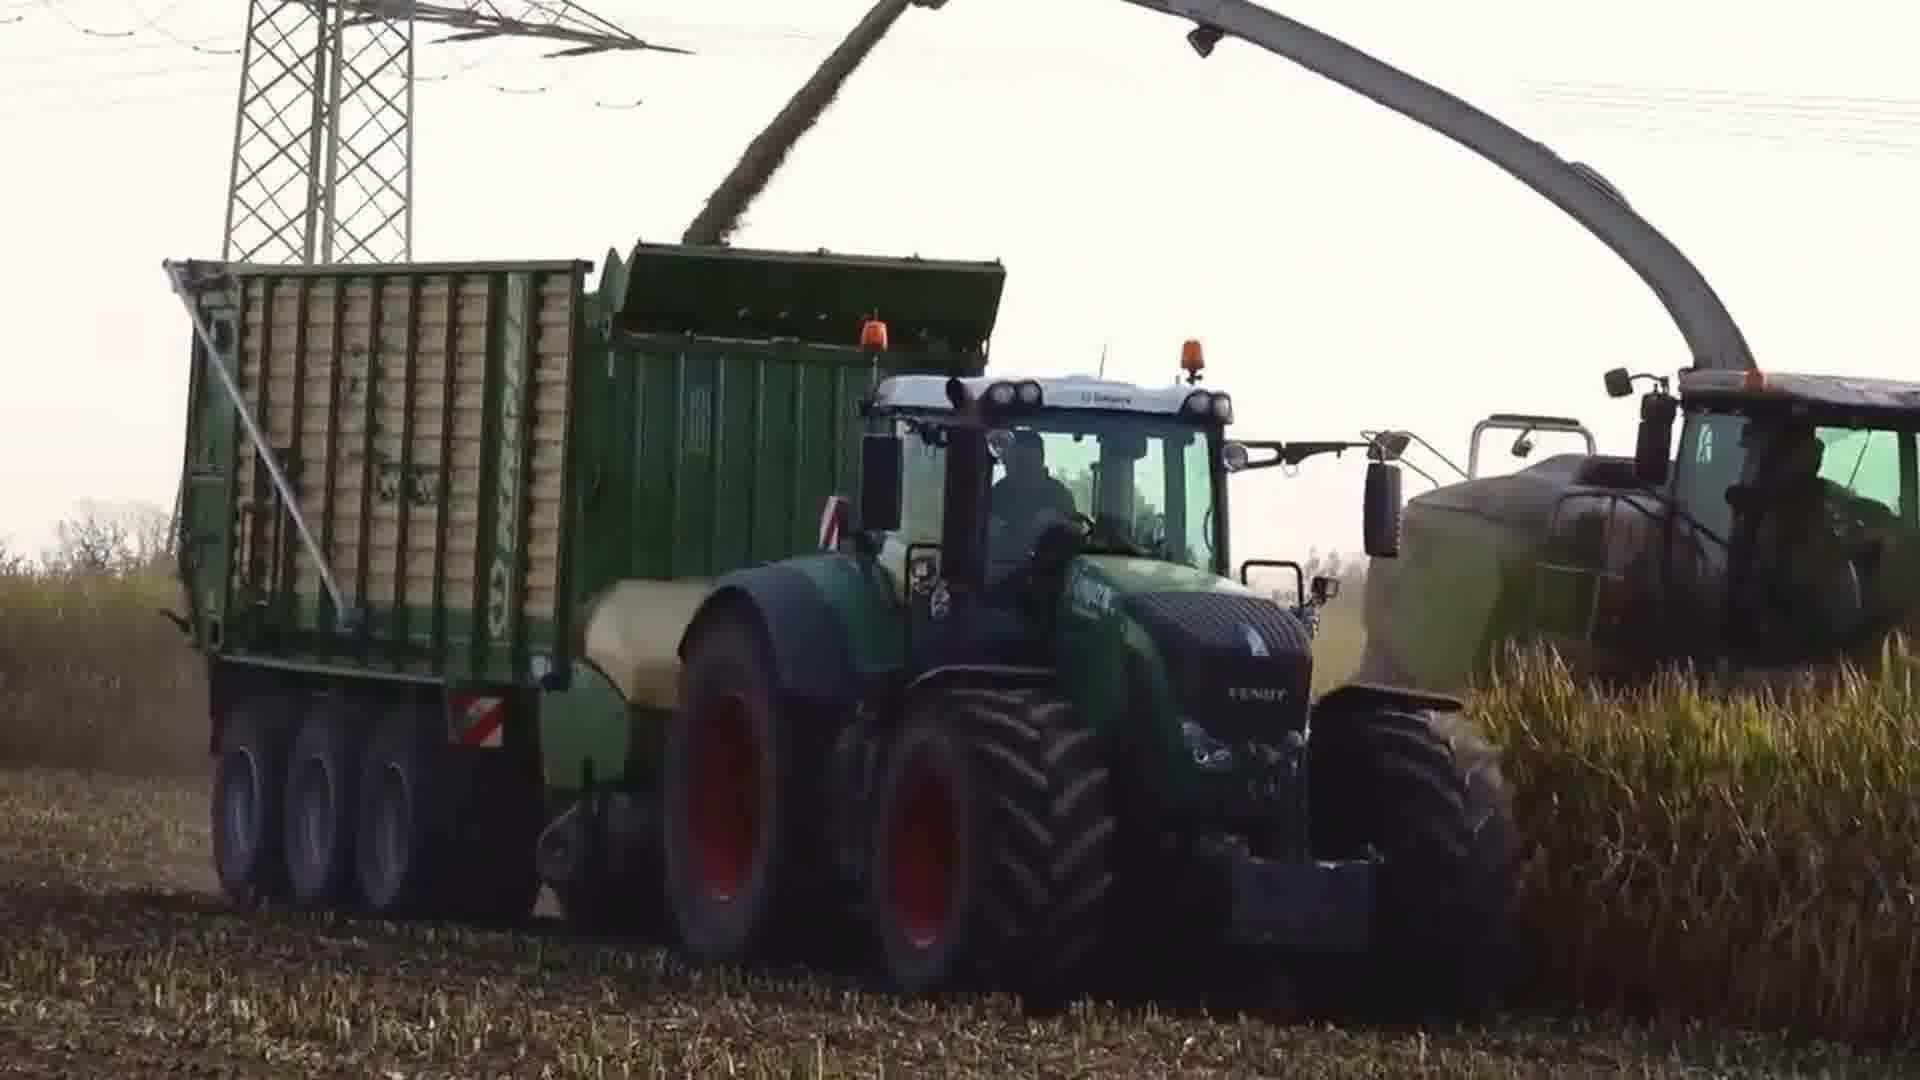combine harvester: (1101, 0, 1920, 740)
tractor: (657, 311, 1543, 1043)
trailer: (150, 236, 1009, 934)
